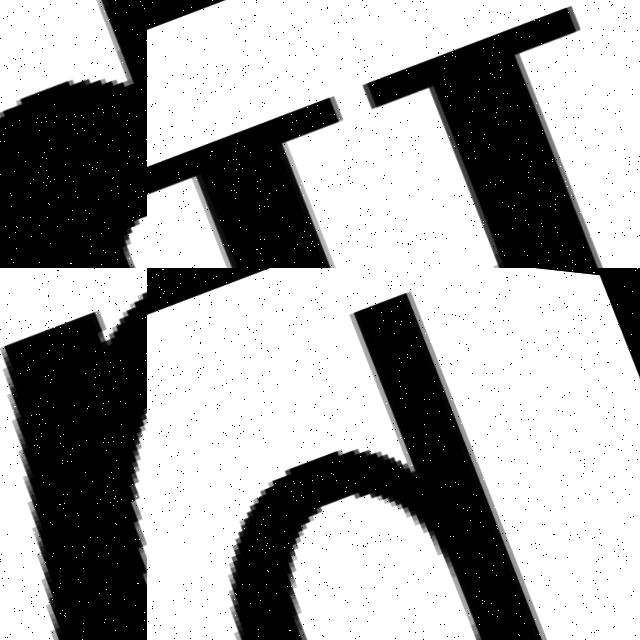N: (147, 0, 640, 268)
P: (238, 285, 558, 640), (0, 0, 147, 268)
U: (0, 268, 147, 640)
